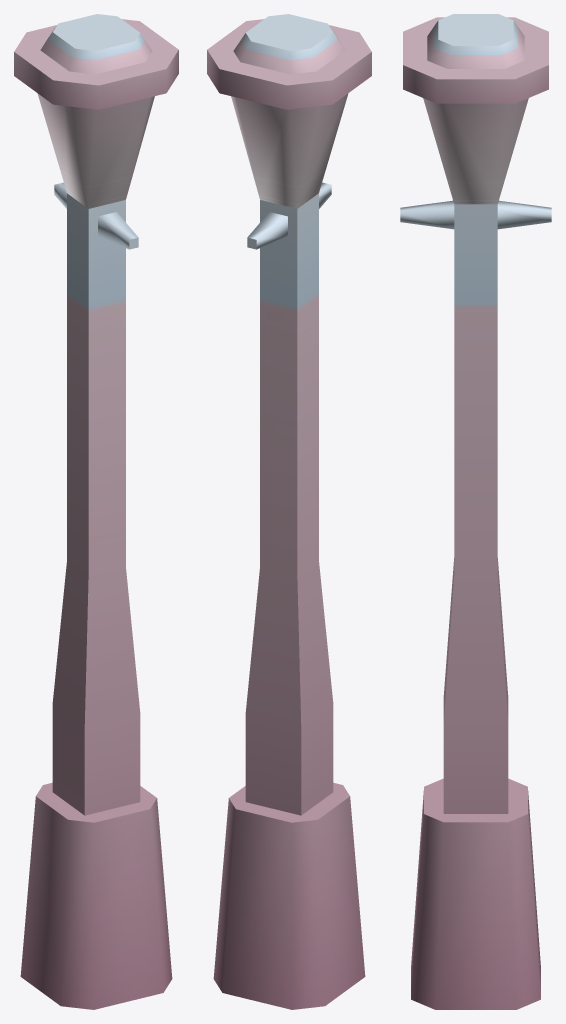
Rendered from lamp_post.obj.
The picture shows the model from 3 angles, left to right: view 1: azimuth 30°, elevation 25°; view 2: azimuth 150°, elevation 25°; view 3: azimuth 270°, elevation 25°; orthographic projection.
Parts seen in each view (by area): view 1: lantern; view 2: lantern; view 3: lantern.
Boxes of the visible parts, bbox=[...] form: lantern: bbox=[14, 14, 178, 1009]; lantern: bbox=[207, 14, 371, 1009]; lantern: bbox=[400, 14, 551, 1009].
Size of the model in its own units: 1.53 by 11 by 1.59.
Materials: 1 (1 with a texture image).
